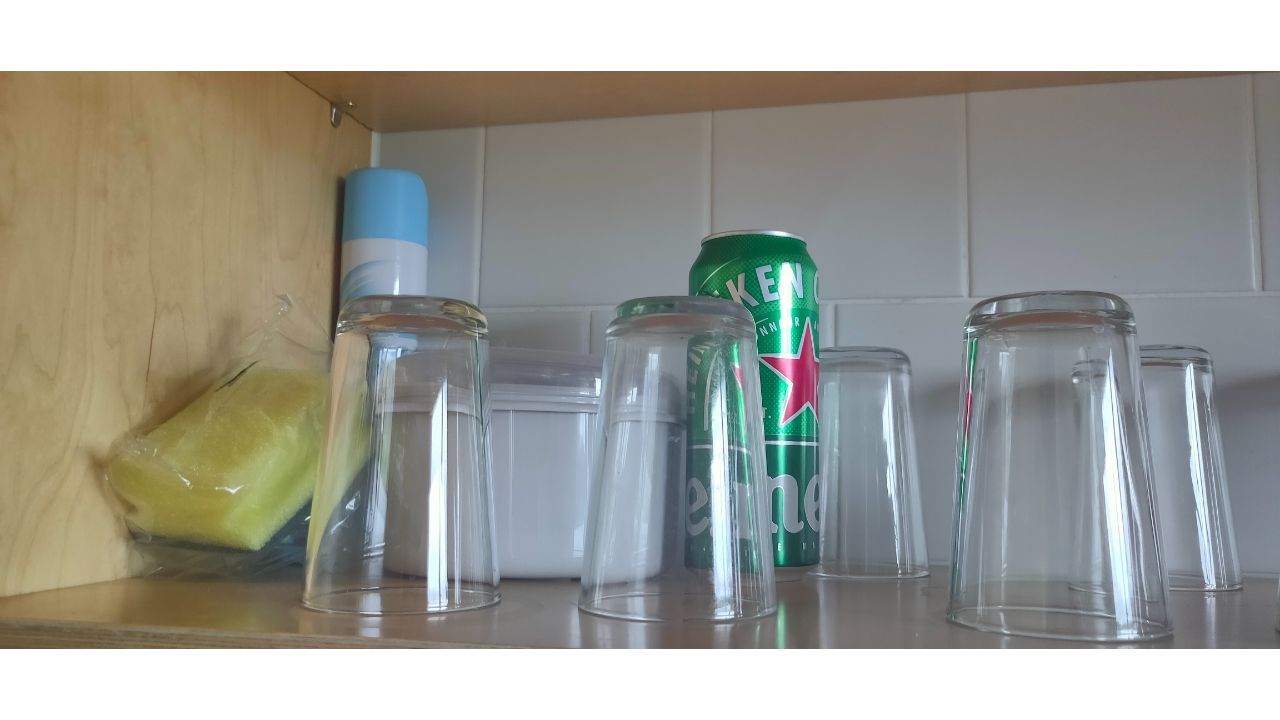Can: (689, 231, 827, 576)
